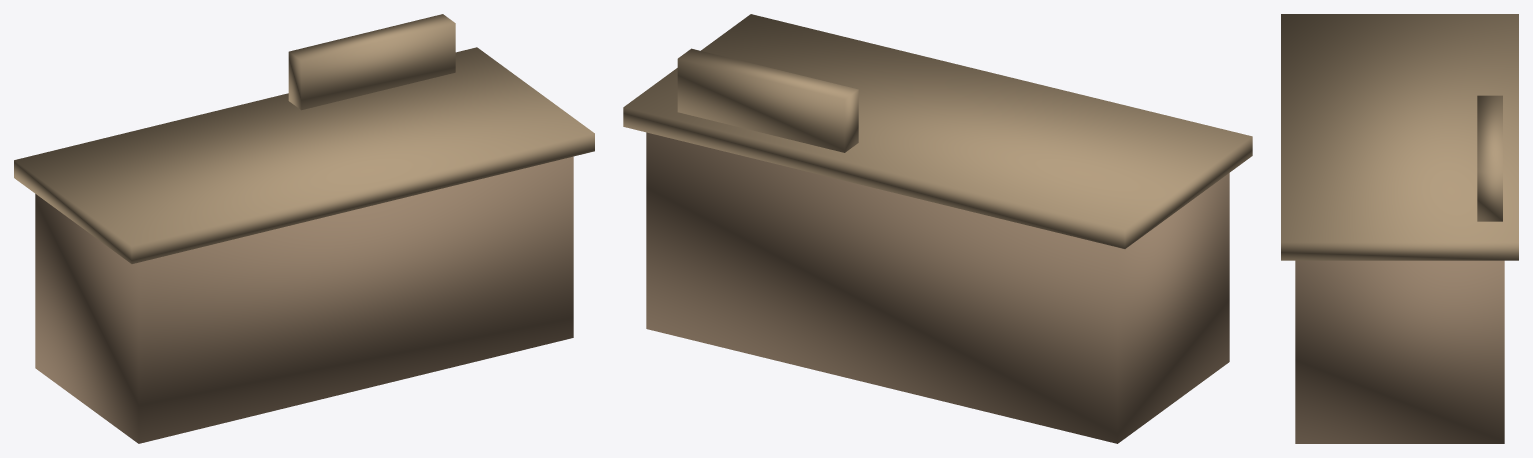
Rendered from clerk_counter__squat.glb.
3 views of the same model, side by side, from view 1: azimuth 30°, elevation 25°; view 2: azimuth 150°, elevation 25°; view 3: azimuth 270°, elevation 25° (orthographic). The views are drawn at different scales.
Parts seen in each view (by area): view 1: world; view 2: world; view 3: world.
Part boxes in pixels (box(x1,y1,x2,y2)): world: box(14, 14, 594, 443); world: box(623, 14, 1252, 443); world: box(1281, 14, 1518, 443).
Size of the model in its own units: 1.81 by 0.9576 by 0.7992.
